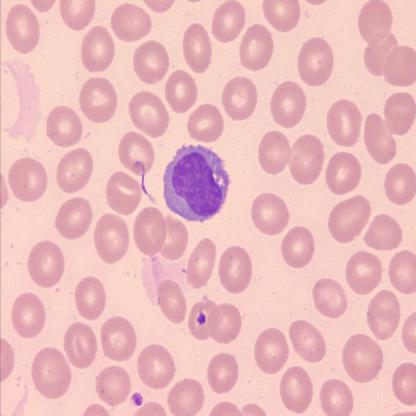Atypical lymphocyte: (161, 144, 231, 223)
